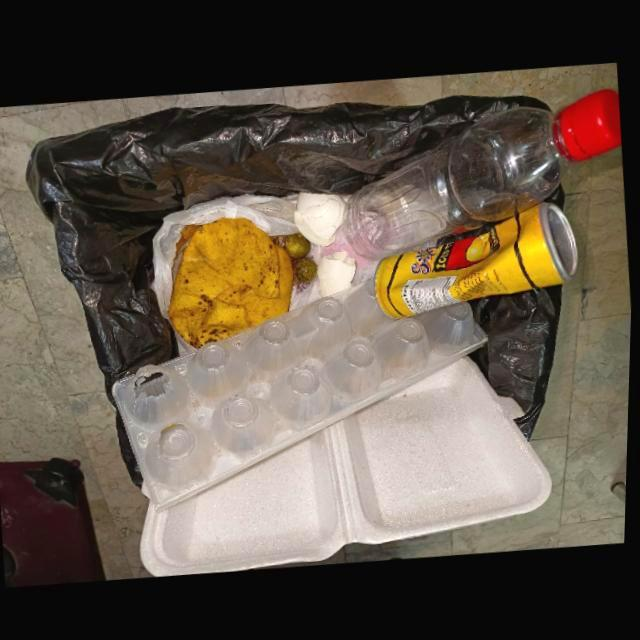aluminum: (376, 199, 580, 317)
plastic_bottle: (344, 86, 622, 258)
plastic_container: (112, 274, 488, 507)
